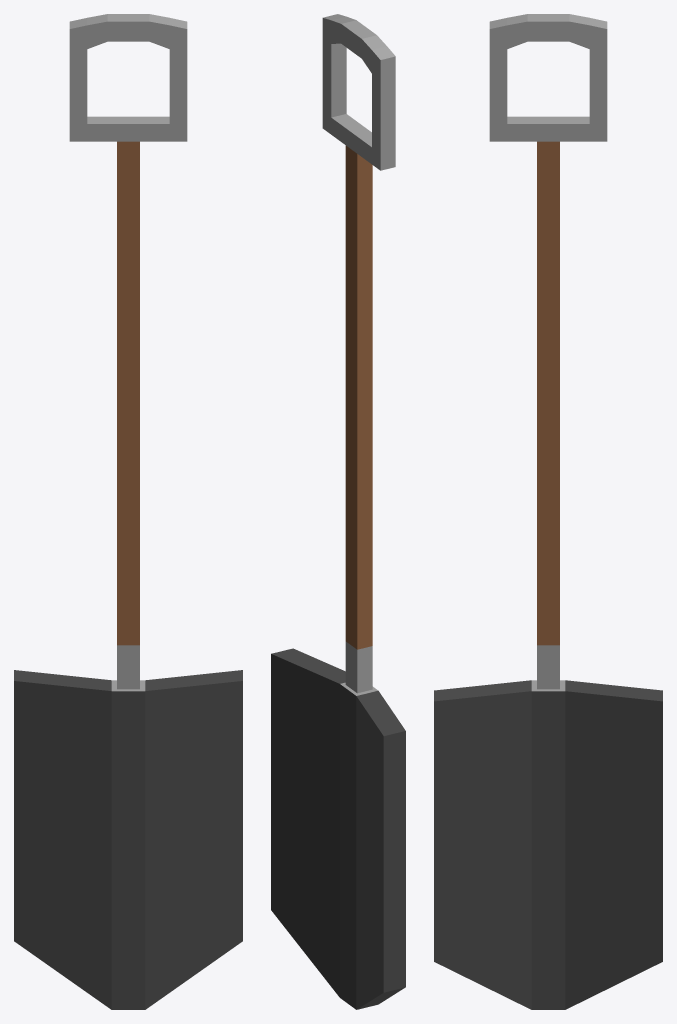
Rendered from google shovel.fbx.
The picture shows the model from 3 angles, left to right: view 1: azimuth 90°, elevation 25°; view 2: azimuth 210°, elevation 25°; view 3: azimuth 270°, elevation 25°; orthographic projection.
Visible parts, largest first — view 1: shovel; view 2: shovel; view 3: shovel.
Part boxes in pixels (bbox=[...]): shovel: bbox=[14, 14, 242, 1009]; shovel: bbox=[271, 14, 405, 1009]; shovel: bbox=[434, 14, 662, 1009].
Size of the model in its own units: 0.216 by 4.69 by 0.9848.
